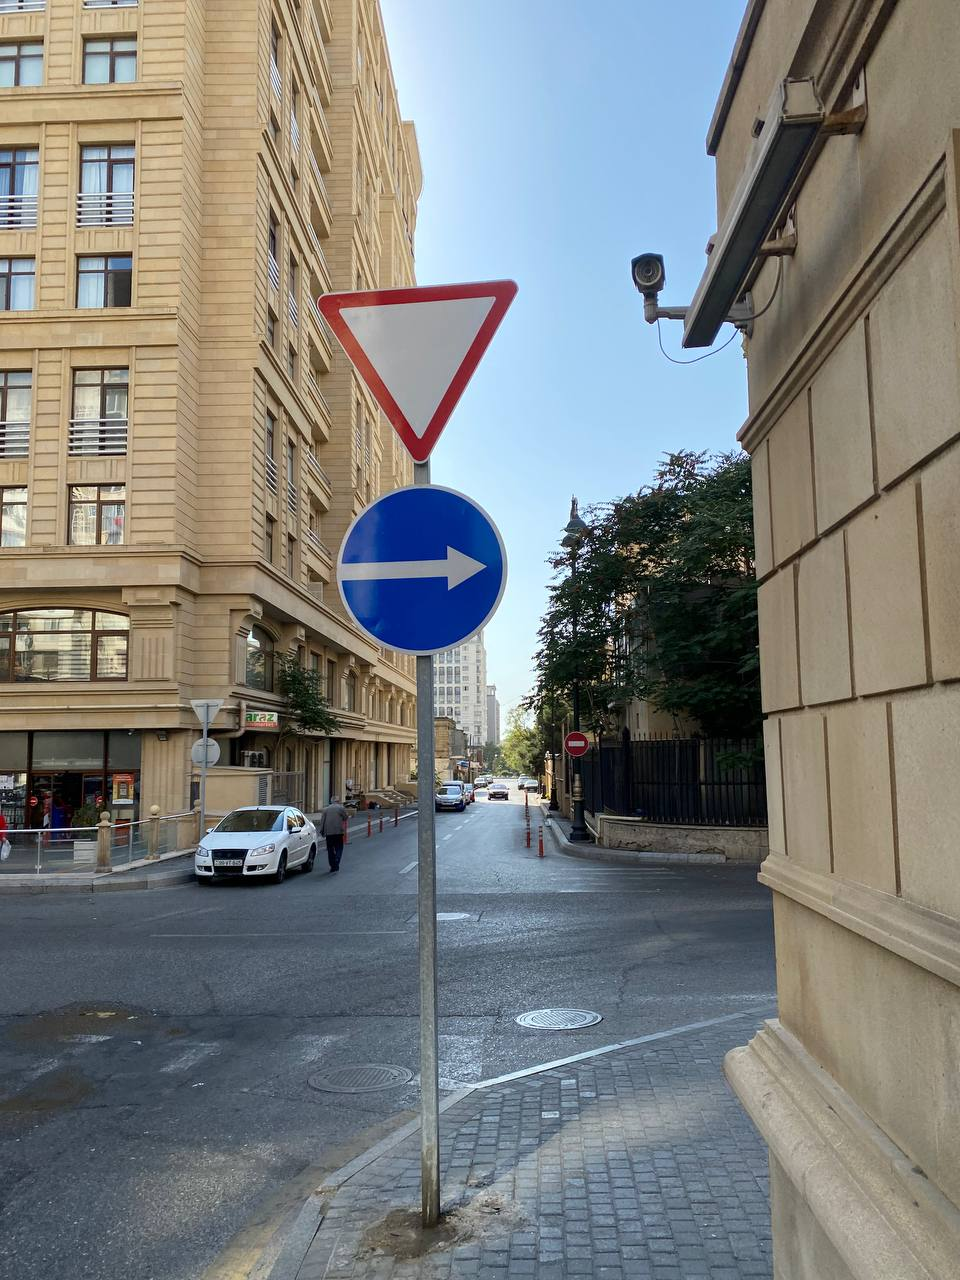Give Way: (318, 279, 519, 463)
Turn Right: (338, 483, 508, 656)
